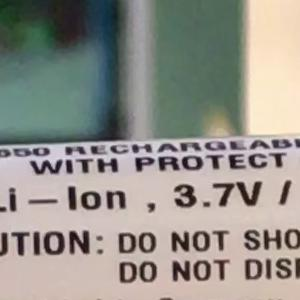keyword: (164, 171, 272, 218)
